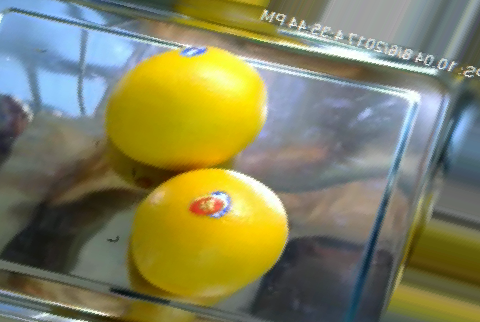Orange: (129, 167, 289, 297), (105, 44, 270, 169)
